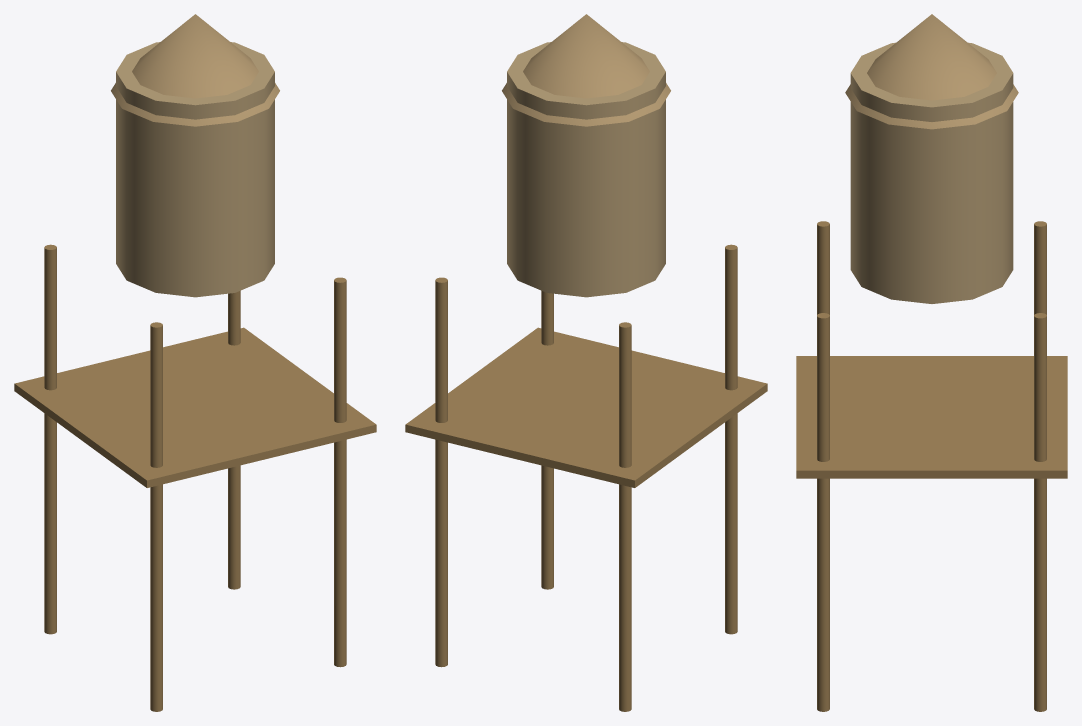
Rendered from env-ww-watertower.glb.
The picture shows the model from 3 angles, left to right: view 1: azimuth 30°, elevation 25°; view 2: azimuth 150°, elevation 25°; view 3: azimuth 270°, elevation 25°; orthographic projection. The views are drawn at different scales.
Bounding box in the file's own units: 2.5 × 6.6 × 2.5.
